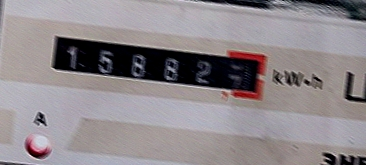1: (62, 41, 80, 70)
2: (192, 56, 212, 86)
5: (94, 46, 115, 75)
7: (224, 70, 242, 89)
8: (127, 50, 146, 80), (160, 53, 179, 83)
screen: (36, 18, 277, 109)
